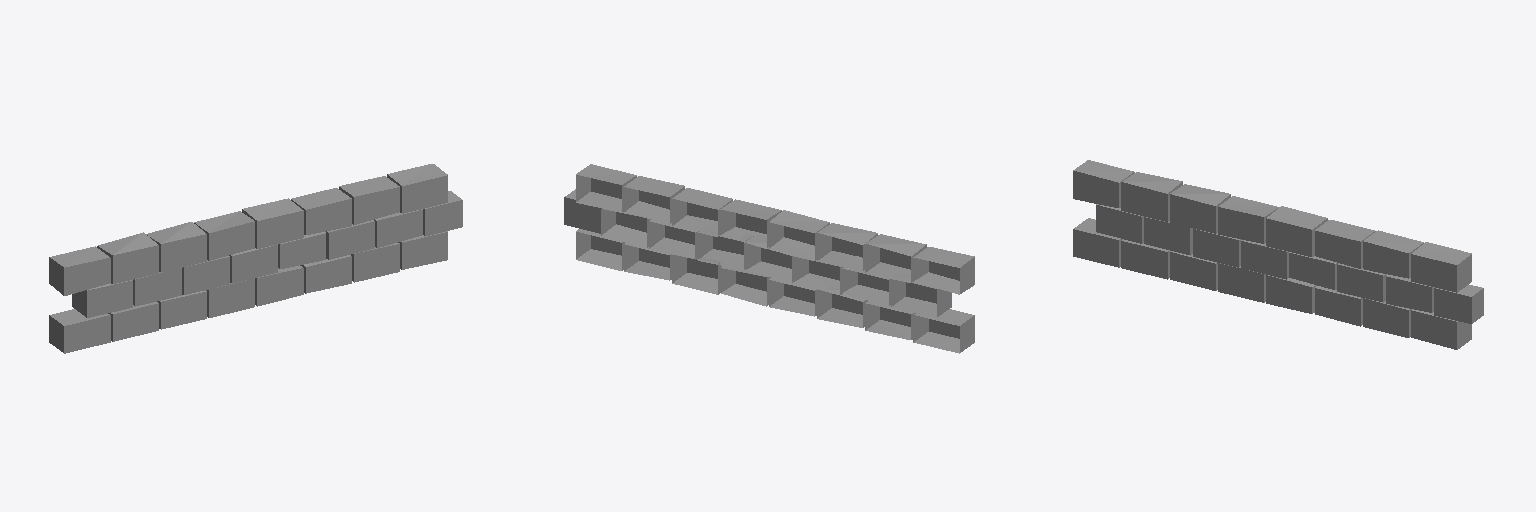
Rendered from Bricks_Large.obj.
3 renders of one model, left to right at view 1: azimuth 30°, elevation 25°; view 2: azimuth 150°, elevation 25°; view 3: azimuth 330°, elevation 25°, orthographic.
Visible parts, largest first — view 1: Bricks_Large_Cube.061; view 2: Bricks_Large_Cube.061; view 3: Bricks_Large_Cube.061.
Part boxes in pixels (x1,y1,x2,y2): Bricks_Large_Cube.061: (49,164,462,353); Bricks_Large_Cube.061: (564,164,974,353); Bricks_Large_Cube.061: (1073,160,1483,349).
Bounding box in the file's own units: 2.06 × 0.4318 × 0.1364.